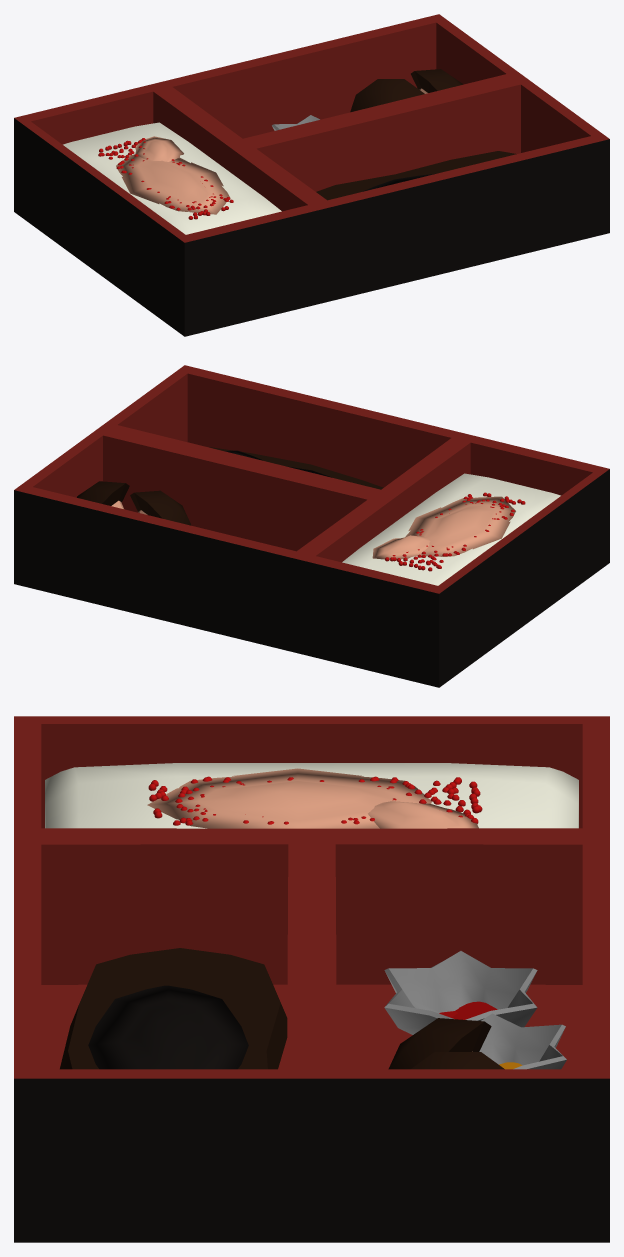
3 views of the same model, one above another, from view 1: azimuth 30°, elevation 25°; view 2: azimuth 150°, elevation 25°; view 3: azimuth 270°, elevation 25° (orthographic). The views are drawn at different scales.
Parts seen in each view (by area): view 1: 벤또, Box001, 소스, 규니쿠, 키노꼬001, 키노꼬; view 2: 벤또, Box001, 소스, 키노꼬001, 키노꼬, 규니쿠; view 3: 벤또, Box001, 소스, 규니쿠, 스테이크소스, 종지, 종지001, 키노꼬001, 키노꼬.
Boxes of the visible parts, x1,y1,x2,y2 form: 벤또: (14,14,609,336); Box001: (63,122,281,234); 소스: (116,136,230,214); 규니쿠: (316,151,516,200); 키노꼬001: (350,79,424,112); 키노꼬: (411,69,462,93); 벤또: (14,365,609,687); Box001: (342,473,560,585); 소스: (372,496,515,559); 키노꼬001: (130,490,191,525); 키노꼬: (77,481,129,508); 규니쿠: (209,447,383,489); 벤또: (14,716,609,1242); Box001: (45,763,578,828); 소스: (147,768,478,828); 규니쿠: (60,948,287,1069); 스테이크소스: (88,985,248,1069); 종지: (384,951,537,1034); 종지001: (479,1013,566,1069); 키노꼬001: (388,1018,491,1069); 키노꼬: (411,1052,504,1069).
Size of the model in its own units: 16.08 by 3.53 by 11.18.
